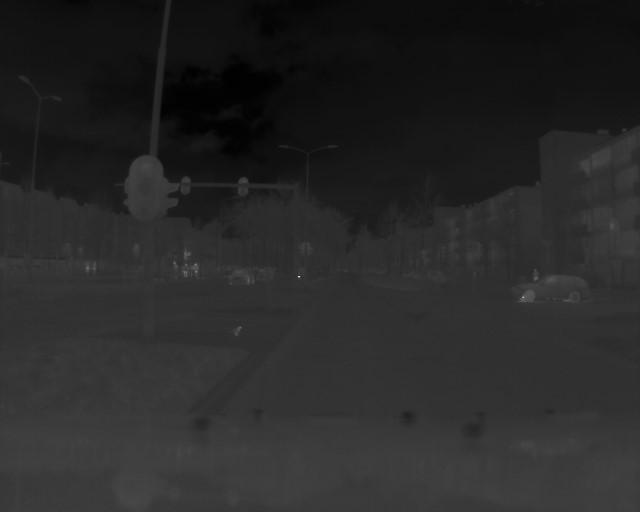car: (512, 273, 592, 303), (229, 268, 258, 288)
